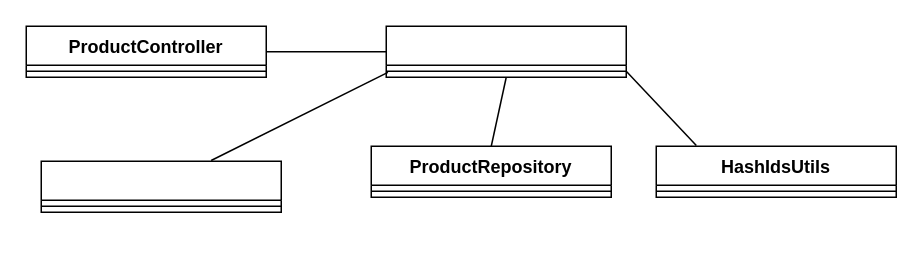
The diagram is 923 pixels wide and 263 high, and some of its shapes have lost their labels. Each missing label, with the centre of its shape:
"CategoryRepository" belongs at [160,186].
"ProductService" belongs at [505,51].
